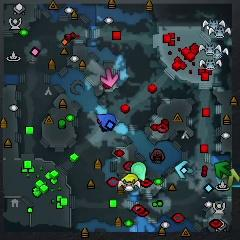p1: (95, 112, 118, 131)
p2: (130, 161, 148, 181)
p4: (120, 172, 139, 183)
x1: (100, 67, 118, 88)
x2: (221, 168, 240, 187)
x3: (174, 159, 194, 179)
x4: (214, 161, 232, 178)
